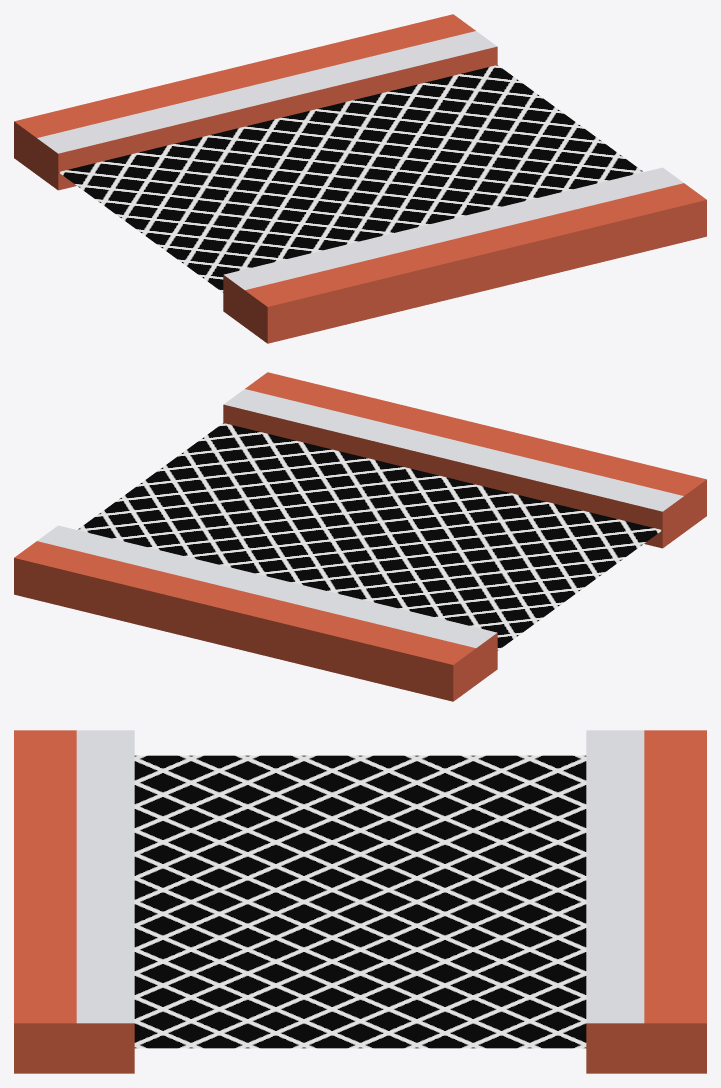
File: metalTileConnectStraight.glb
The picture shows the model from 3 angles, top to bottom: view 1: azimuth 30°, elevation 25°; view 2: azimuth 150°, elevation 25°; view 3: azimuth 270°, elevation 25°; orthographic projection. The views are drawn at different scales.
Visible parts, largest first — view 1: metalTileConnectStraight; view 2: metalTileConnectStraight; view 3: metalTileConnectStraight.
Part boxes in pixels (<box>): metalTileConnectStraight: <box>14,14,706,343</box>; metalTileConnectStraight: <box>14,372,706,701</box>; metalTileConnectStraight: <box>14,730,706,1073</box>.
Bounding box in the file's own units: 10 × 0.8 × 10.
3 materials, 1 textured.
